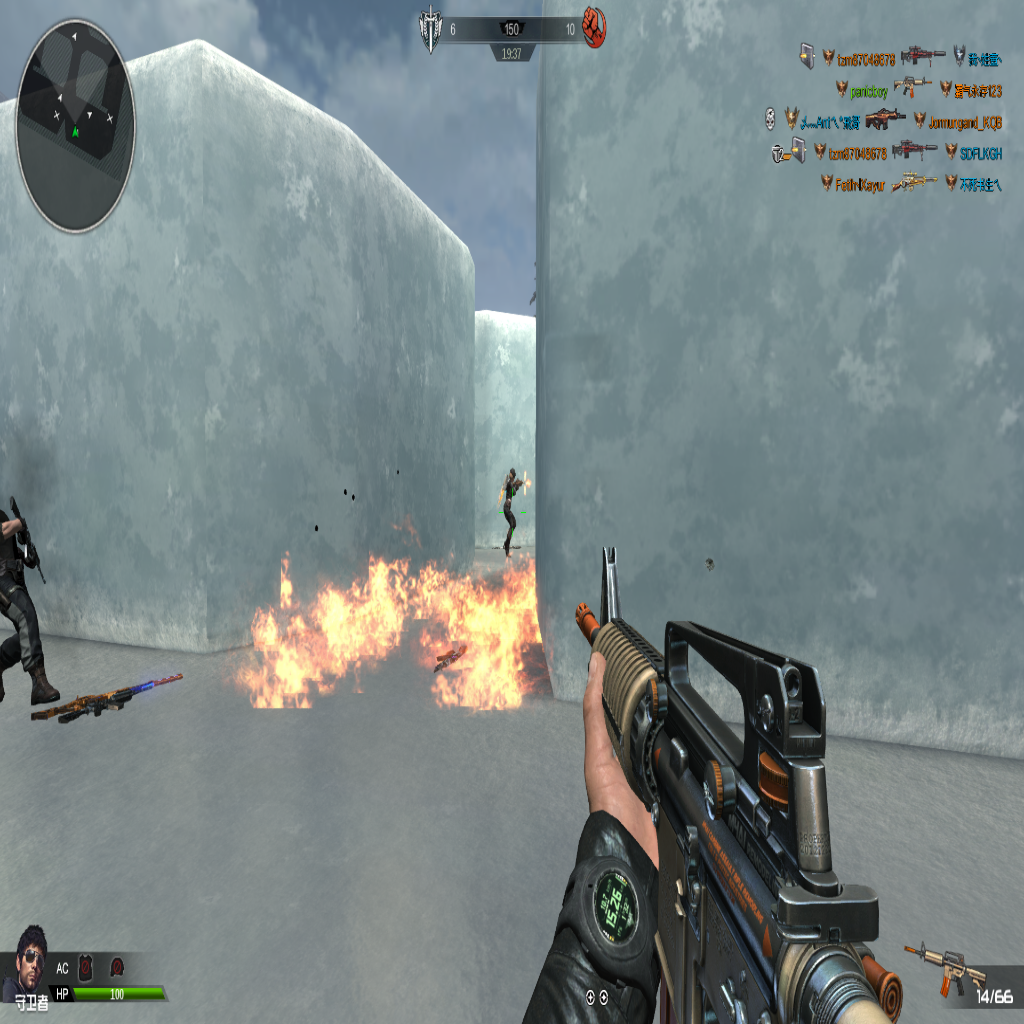ct: (0, 482, 58, 724), (499, 466, 529, 553)
